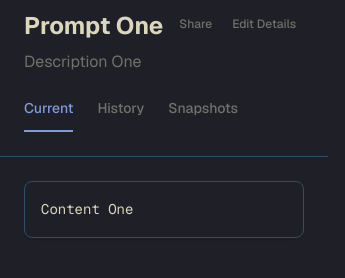
PromptDetail › switches to history tab and fetches data
Step 1. Click the button "History" → (121, 115), box [97,98,144,132]
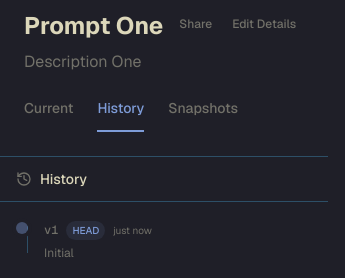
Result: the text "Initial" is shown at [44,245,74,261]
Result: the text "v1" is shown at [44,222,58,238]
